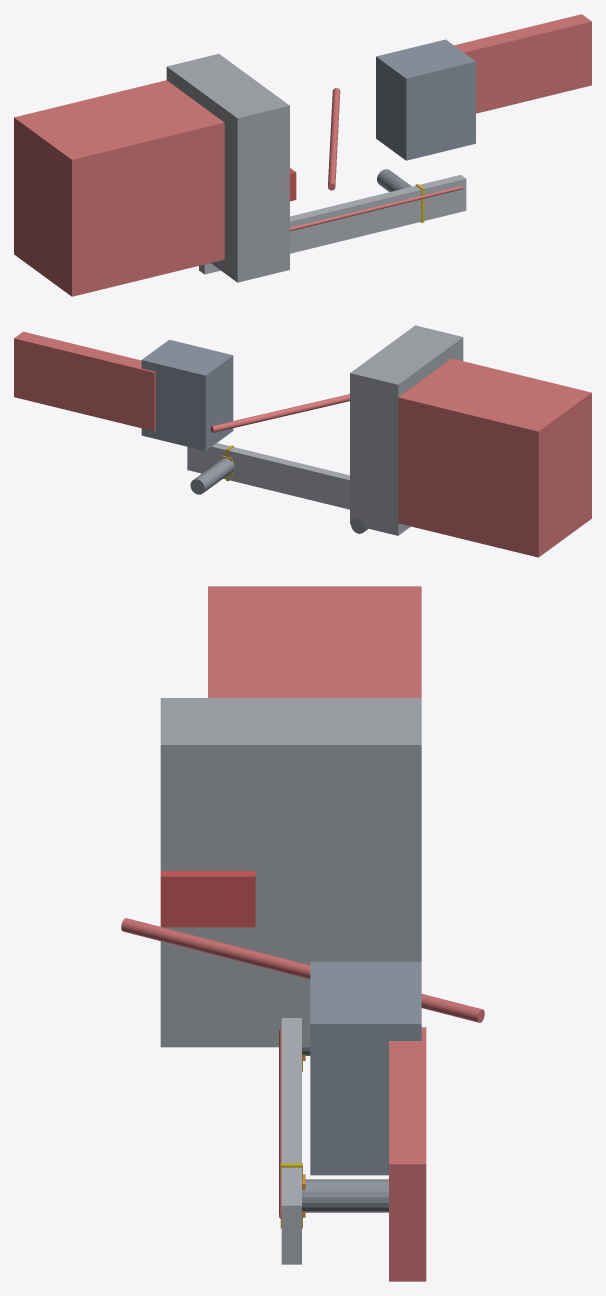
File: hydropower_bridge_model.glb
The picture shows the model from 3 angles, top to bottom: view 1: azimuth 30°, elevation 25°; view 2: azimuth 150°, elevation 25°; view 3: azimuth 270°, elevation 25°; orthographic projection. The views are drawn at different scales.
Parts seen in each view (by area): view 1: reservoir_water, dam_structure, powerhouse_casing, draft_tube_tailrace, bridge_deck, penstock_pipe, conduit_pipe, bridge_piers; view 2: reservoir_water, dam_structure, draft_tube_tailrace, powerhouse_casing, bridge_deck, penstock_pipe, bridge_piers; view 3: dam_structure, reservoir_water, powerhouse_casing, draft_tube_tailrace, intake_gate, bridge_deck, penstock_pipe, bridge_piers.
Boxes of the visible parts, x1,y1,x2,y2 form: reservoir_water: (14, 80, 224, 296); dam_structure: (166, 54, 289, 282); powerhouse_casing: (376, 39, 475, 160); draft_tube_tailrace: (454, 14, 591, 113); bridge_deck: (199, 175, 466, 274); penstock_pipe: (328, 88, 340, 190); conduit_pipe: (290, 186, 462, 231); bridge_piers: (377, 169, 411, 191); reservoir_water: (398, 358, 591, 557); dam_structure: (350, 325, 463, 535); draft_tube_tailrace: (14, 331, 155, 431); powerhouse_casing: (141, 339, 233, 450); bridge_deck: (187, 443, 349, 509); penstock_pipe: (210, 394, 349, 432); bridge_piers: (190, 458, 368, 533); dam_structure: (160, 698, 421, 1047); reservoir_water: (208, 586, 421, 697); powerhouse_casing: (310, 961, 421, 1175); draft_tube_tailrace: (389, 1027, 426, 1281); intake_gate: (160, 871, 255, 927); bridge_deck: (281, 1018, 301, 1264); penstock_pipe: (121, 918, 484, 1022); bridge_piers: (302, 1047, 388, 1212).
Size of the model in its own units: 130 by 39.75 by 39.26.
